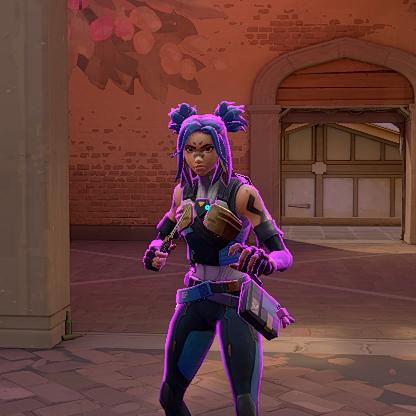enemyBody: (180, 179, 252, 255)
enemyHead: (187, 127, 229, 180)
